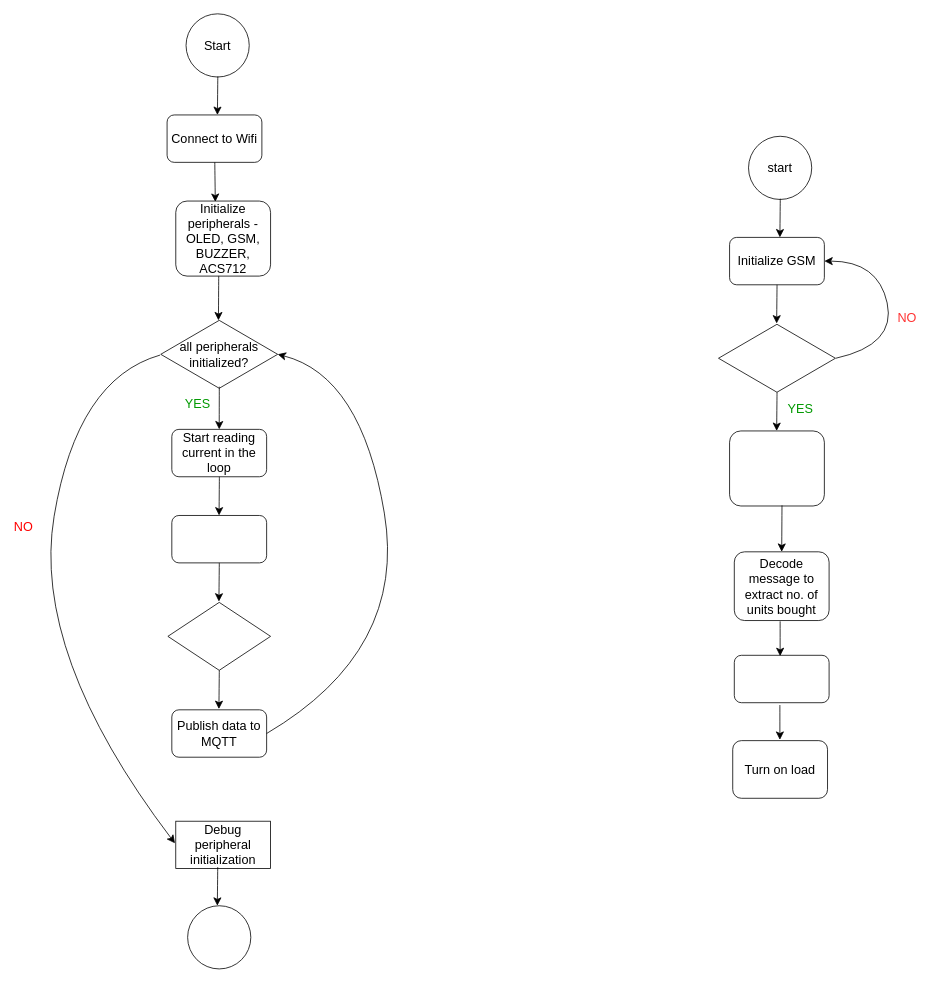
Some shapes in this 945 by 983 pixel diagram are drawn without their labels. The box of each missing label's shape, as (x1, y1, x2, y2) in pixels:
Calculate consumed power: (171, 515, 267, 563)
GSM initialized?: (718, 324, 835, 392)
mqtt connected?: (167, 602, 271, 670)
Stop: (187, 905, 251, 969)
Update the firmware with new units: (734, 655, 829, 703)
Wait for incoming message: (729, 430, 824, 506)
